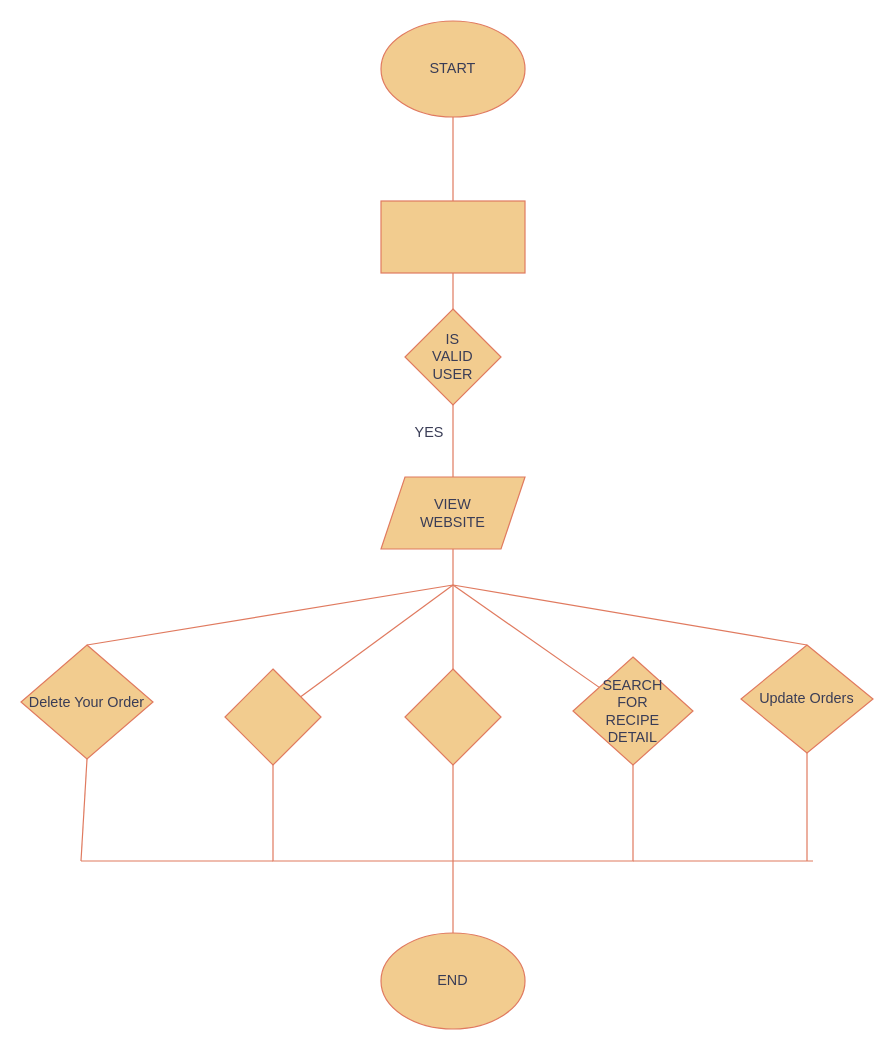
Some shapes in this 894 by 1050 pixel diagram are drawn without their labels. The shapes that lost their labels are listed below. From the top down, each one's box as (x1, y1, x2, y2) in pixels, then its label:
(380, 200, 525, 273): USER REGISTRATION
(224, 668, 321, 765): GET YOUR BILL
(404, 668, 501, 765): SHOW ORDERS
